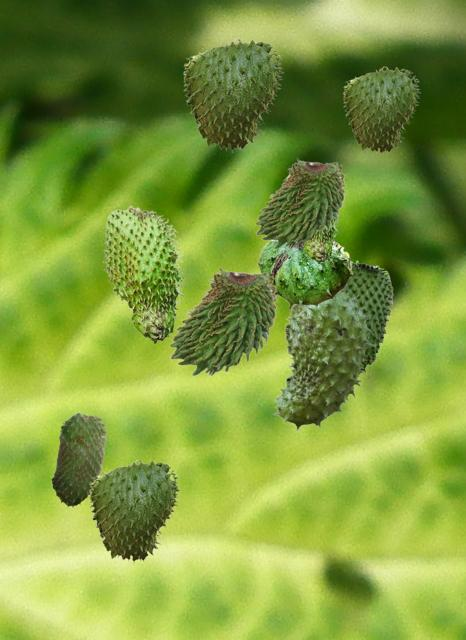guyabano: (272, 288, 376, 431), (168, 266, 277, 375), (183, 38, 283, 152), (102, 205, 184, 343), (89, 459, 180, 563), (254, 157, 345, 248), (343, 66, 420, 154), (257, 241, 352, 309), (341, 260, 392, 378), (51, 412, 106, 506), (286, 175, 338, 263)
